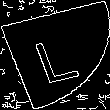L_N: (28, 26, 82, 84)
